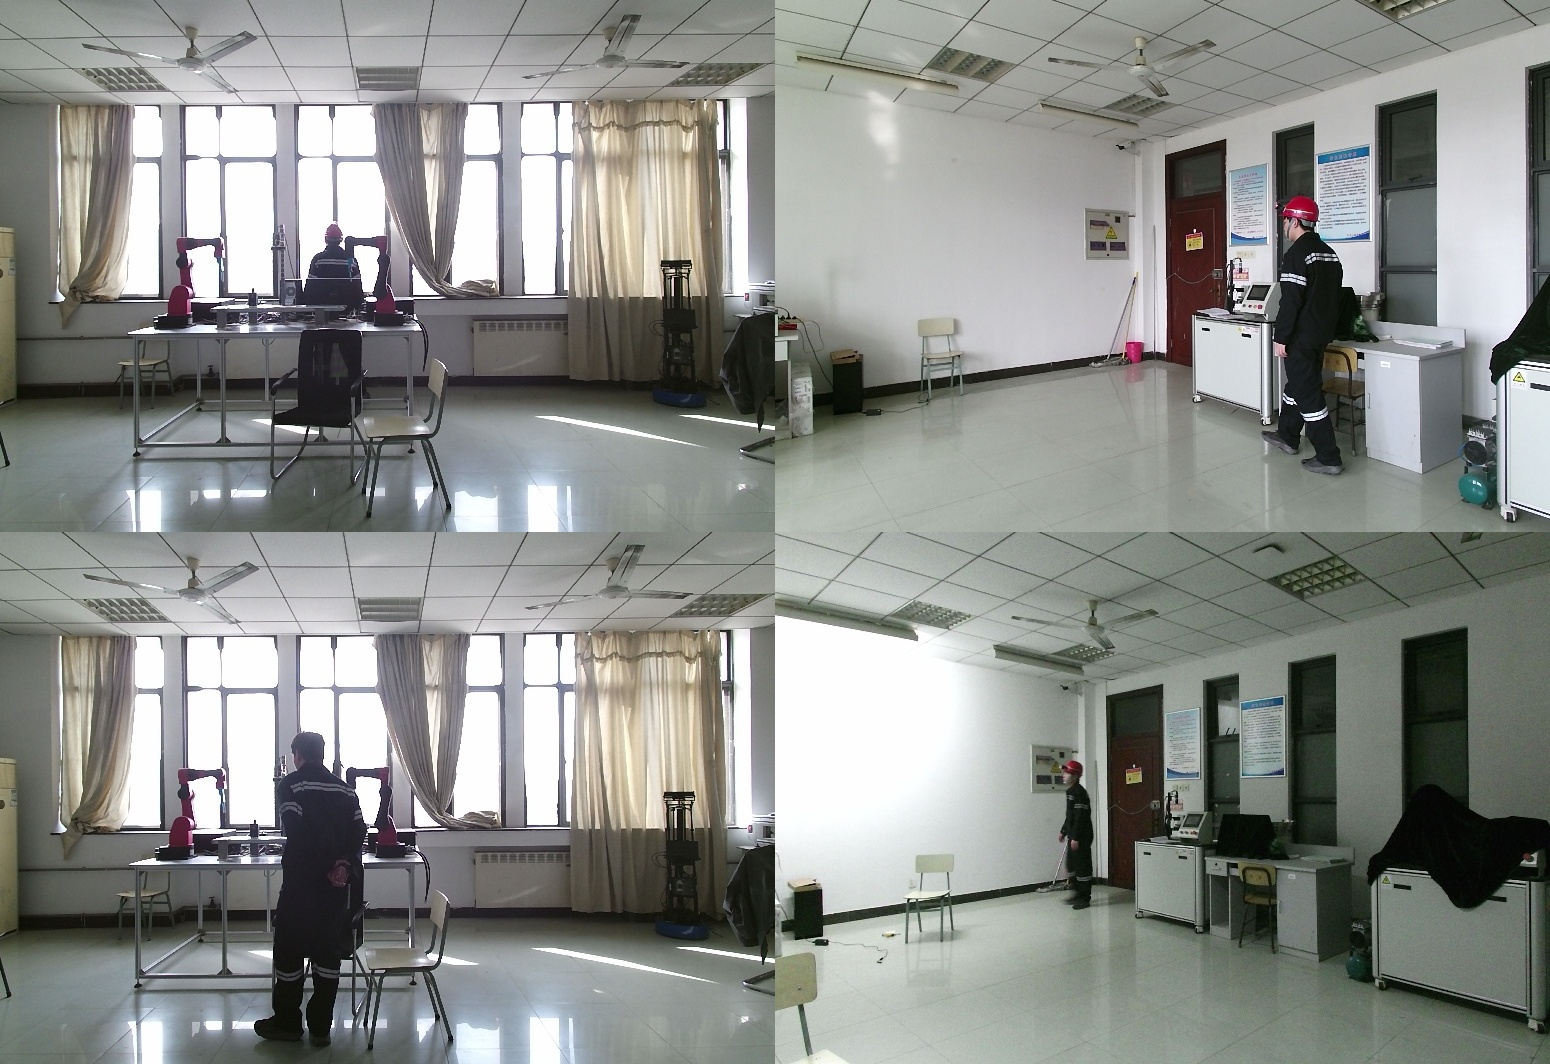person: (255, 734, 369, 1043), (1270, 194, 1351, 471), (302, 225, 362, 380), (1057, 761, 1112, 915)
